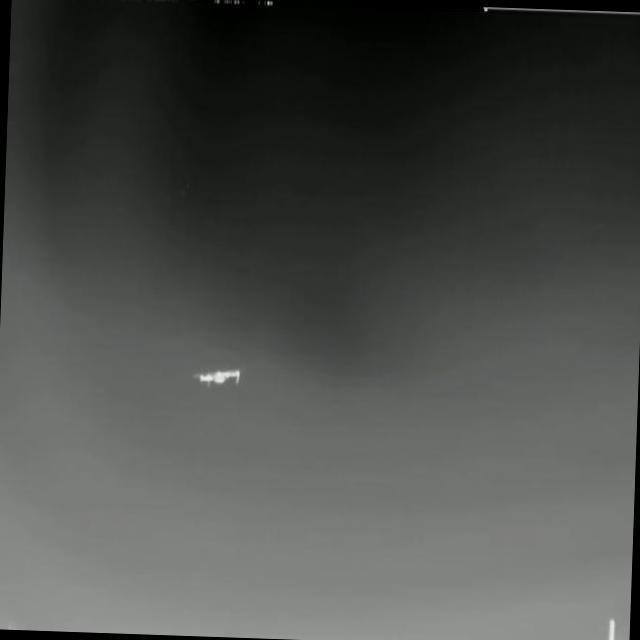DRONE: (185, 358, 249, 396)
